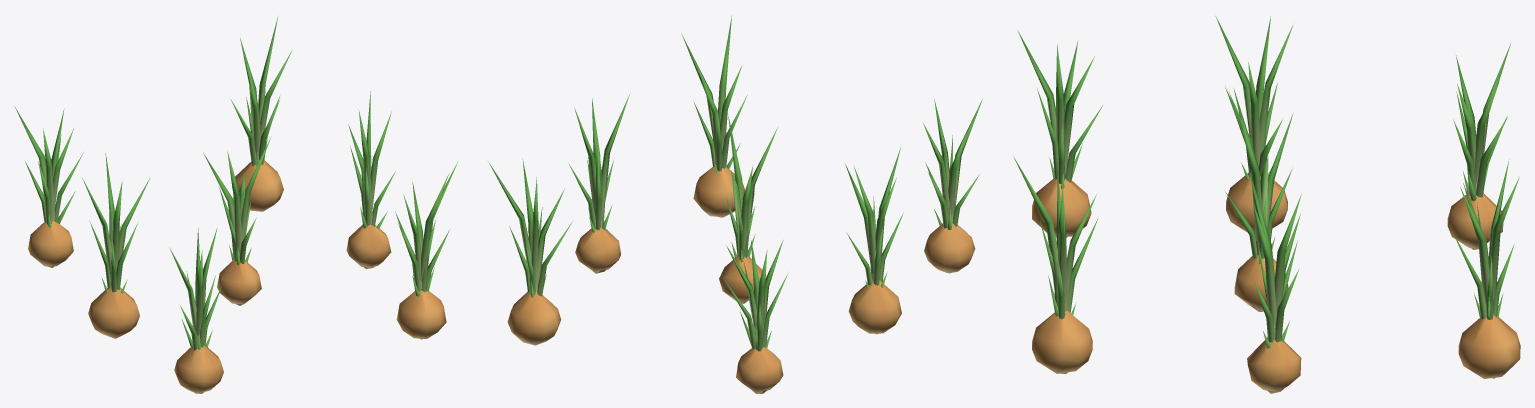
3 renders of one model, left to right at view 1: azimuth 30°, elevation 25°; view 2: azimuth 150°, elevation 25°; view 3: azimuth 270°, elevation 25°, orthographic. The views are drawn at different scales.
Visible parts, largest first — view 1: stage3, stage2, stage1; view 2: stage3, stage2, stage1; view 3: stage3, stage2, stage1.
Boxes of the visible parts, bbox=[...] form: stage3: bbox=[14, 16, 457, 393]; stage2: bbox=[25, 96, 449, 393]; stage1: bbox=[48, 136, 434, 349]; stage3: bbox=[489, 15, 982, 393]; stage2: bbox=[509, 94, 979, 393]; stage1: bbox=[531, 143, 951, 349]; stage3: bbox=[1013, 16, 1520, 392]; stage2: bbox=[1037, 82, 1514, 393]; stage1: bbox=[1048, 143, 1503, 348].
Size of the model in its own units: 0.978 by 0.5441 by 1.12.
